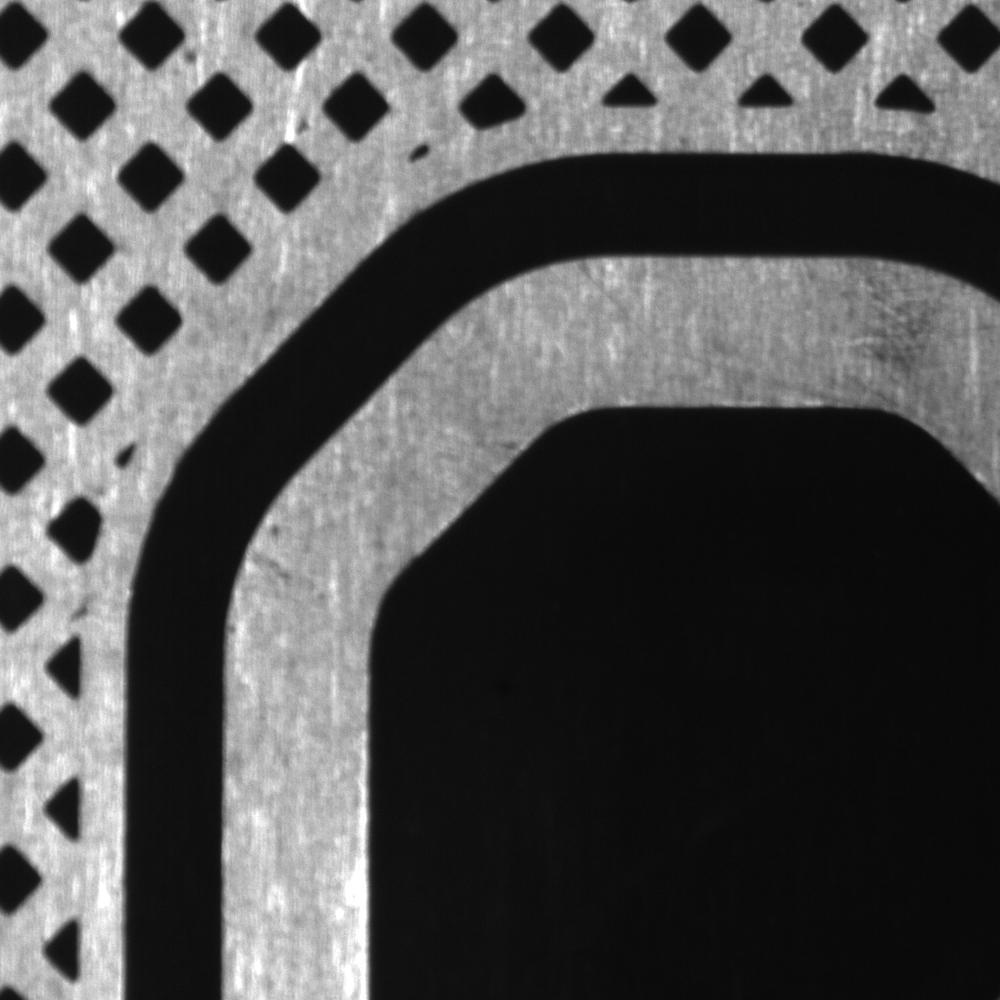Discolor: (850, 274, 940, 382)
Scar: (673, 346, 837, 402), (568, 261, 654, 338)
